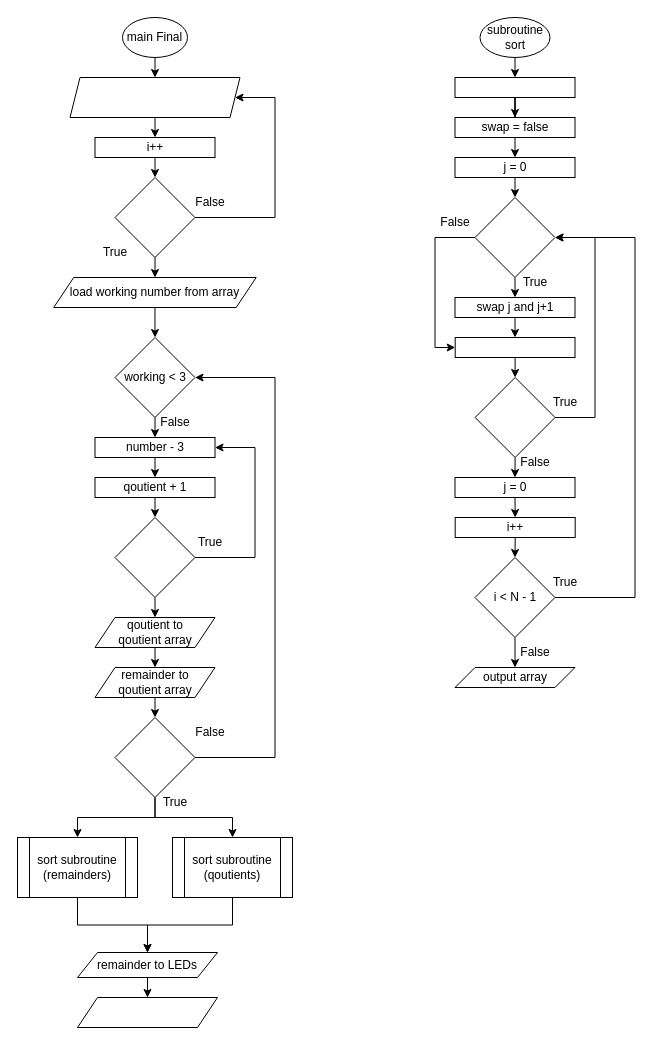
This 661x1045 diagram has some shape labels left out. Here are the shapes that lost their labels. From the top down, the box of each, then its label:
(69, 76, 240, 118): read value from switches into array
(454, 76, 575, 98): for i in range 10
(114, 176, 195, 258): i !< 10
(474, 196, 555, 278): j > j+1
(454, 336, 575, 358): j++
(474, 376, 555, 458): j < N - i - 1
(114, 516, 195, 598): working >= 3
(114, 716, 195, 798): if through array
(76, 996, 218, 1028): result to 7 seg
